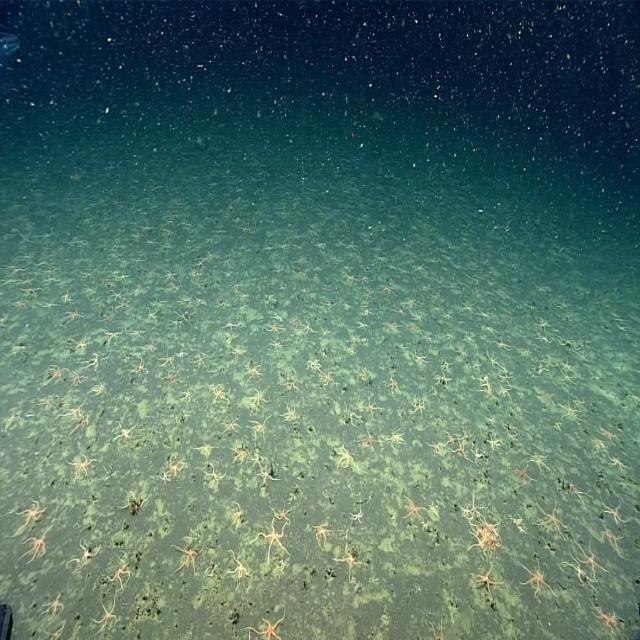brittle-stars: (571, 528, 608, 582), (516, 556, 556, 601), (253, 516, 292, 562), (533, 494, 569, 542), (567, 546, 600, 593), (170, 540, 207, 578), (588, 595, 620, 634), (10, 500, 48, 532), (243, 614, 288, 640), (448, 434, 476, 470), (334, 543, 358, 584), (472, 566, 502, 598), (228, 547, 248, 592), (332, 439, 358, 473), (404, 487, 426, 527), (601, 496, 628, 528), (334, 438, 356, 476), (105, 561, 131, 593), (21, 537, 51, 564), (68, 452, 96, 480), (91, 606, 119, 632), (76, 537, 100, 567), (119, 494, 151, 516), (555, 397, 582, 423), (528, 452, 556, 477), (355, 426, 381, 452), (566, 483, 592, 508), (340, 401, 363, 427), (204, 460, 225, 488), (258, 464, 282, 488), (312, 521, 334, 546), (470, 491, 488, 521), (266, 505, 294, 524), (114, 418, 135, 443), (40, 597, 66, 617), (468, 528, 487, 555), (128, 357, 151, 379), (605, 454, 631, 473), (364, 395, 382, 422), (250, 419, 272, 441), (280, 402, 302, 424), (596, 421, 617, 444), (166, 453, 185, 478), (64, 397, 87, 417), (246, 389, 270, 408), (208, 385, 232, 404), (229, 501, 244, 529), (229, 443, 249, 464), (410, 393, 426, 419), (492, 332, 512, 352), (514, 464, 532, 486), (428, 617, 445, 640), (377, 282, 397, 301), (45, 364, 65, 382), (72, 412, 90, 432), (219, 419, 240, 436), (485, 432, 502, 452), (484, 348, 501, 368), (500, 420, 520, 437), (560, 338, 582, 353), (36, 393, 54, 411), (243, 360, 261, 378), (534, 315, 552, 333), (388, 432, 407, 449), (160, 369, 180, 385), (410, 350, 430, 366), (85, 349, 100, 370), (70, 369, 88, 386), (383, 320, 402, 336), (435, 370, 451, 389), (156, 353, 176, 368), (303, 358, 323, 373), (267, 318, 282, 338), (195, 443, 215, 458), (386, 374, 399, 397), (66, 306, 84, 322), (496, 381, 514, 397), (105, 329, 124, 344), (471, 448, 486, 467), (460, 425, 475, 444), (531, 363, 550, 378), (407, 262, 427, 276), (113, 298, 133, 312), (509, 515, 525, 532), (192, 350, 206, 369), (425, 439, 444, 453), (262, 290, 278, 306), (100, 309, 116, 325), (283, 378, 300, 393), (374, 253, 388, 271), (178, 390, 196, 404), (145, 309, 158, 328), (317, 372, 333, 387), (108, 288, 125, 302), (361, 288, 375, 305), (298, 321, 316, 334), (20, 288, 45, 297), (156, 470, 172, 484), (442, 429, 456, 445), (519, 343, 533, 359), (130, 327, 147, 340), (267, 338, 287, 349), (174, 311, 194, 322), (478, 306, 493, 320), (252, 451, 262, 472), (457, 501, 470, 517), (559, 371, 575, 384), (90, 383, 106, 396), (454, 348, 471, 360), (540, 391, 554, 405), (428, 290, 442, 304), (344, 273, 359, 286), (102, 468, 117, 481), (223, 319, 239, 331), (161, 270, 177, 282), (230, 347, 247, 358), (351, 510, 364, 524), (356, 318, 369, 332), (76, 340, 90, 353), (40, 301, 60, 310), (498, 364, 513, 376), (44, 275, 60, 286), (0, 277, 22, 285), (17, 277, 36, 286), (83, 284, 96, 297), (354, 370, 368, 382), (459, 300, 473, 312), (560, 360, 574, 372), (59, 290, 73, 302), (362, 232, 374, 246), (191, 259, 206, 270), (192, 296, 205, 308), (80, 270, 96, 279), (471, 359, 482, 372), (408, 322, 418, 336), (132, 256, 146, 266), (142, 342, 156, 352), (406, 296, 417, 308), (464, 332, 475, 344), (2, 262, 18, 270), (12, 300, 26, 309), (340, 301, 351, 311)
